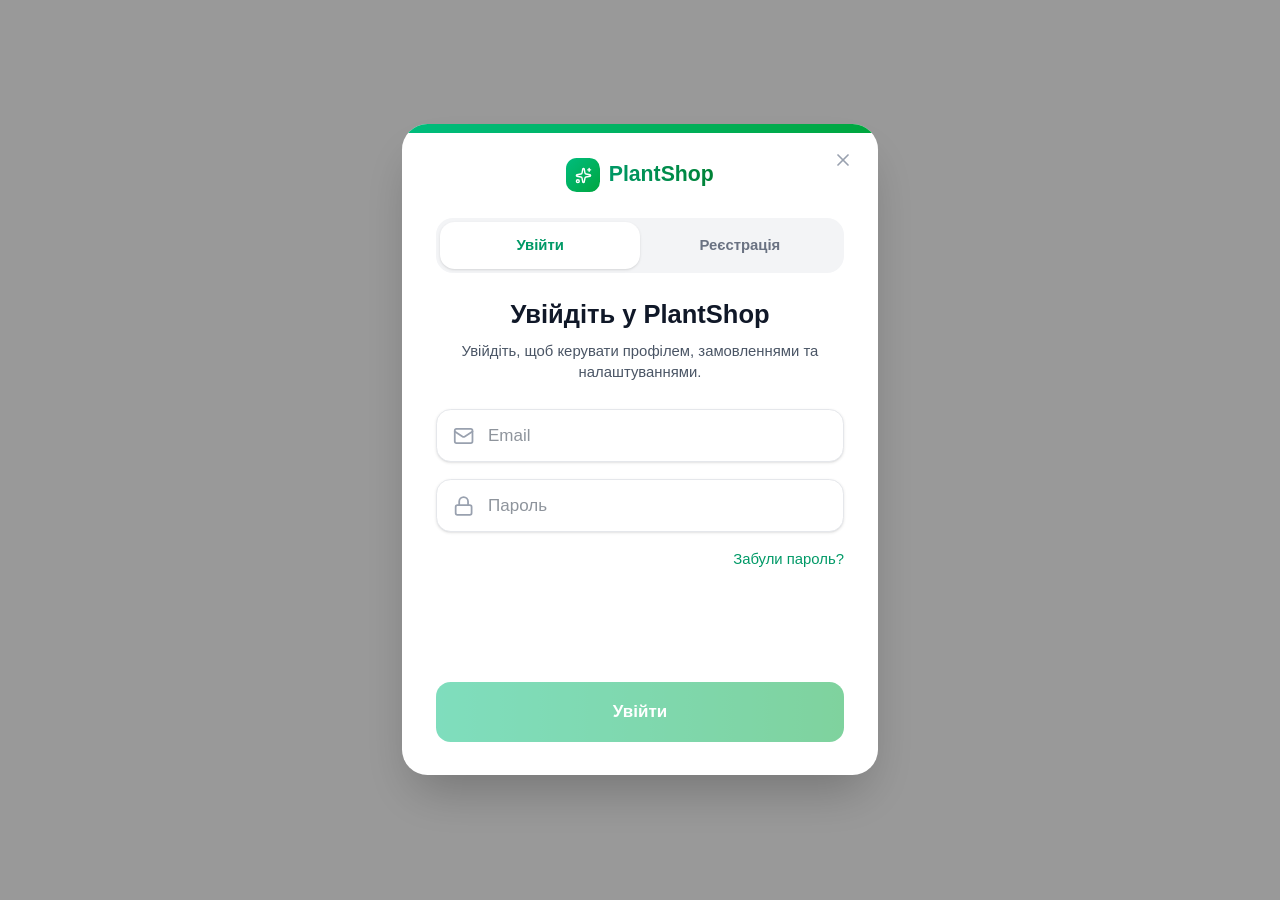
Scenario: AuthModal › показує форму реєстрації після перемикання з вкладки входу
Click the button "Реєстрація". click: (740, 245)
box: [640,222,840,269]
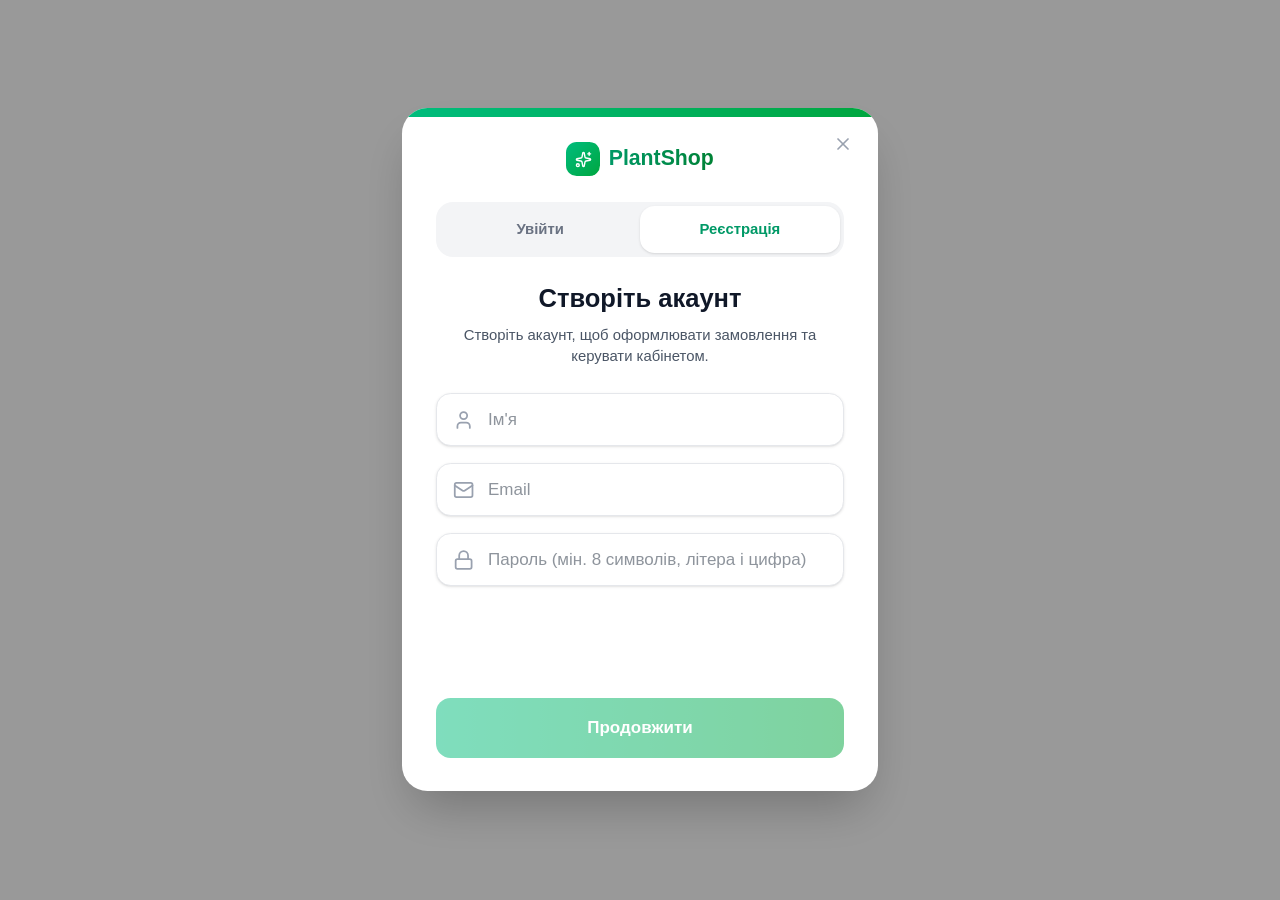
expect the field with placeholder "Email" is shown: met, box [436,463,844,516]
expect the field with placeholder "Ім'я" is shown: met, box [436,393,844,446]
expect the password field with placeholder "Пароль (мін. 8 символів, літера і цифра)" is shown: met, box [436,533,844,586]
